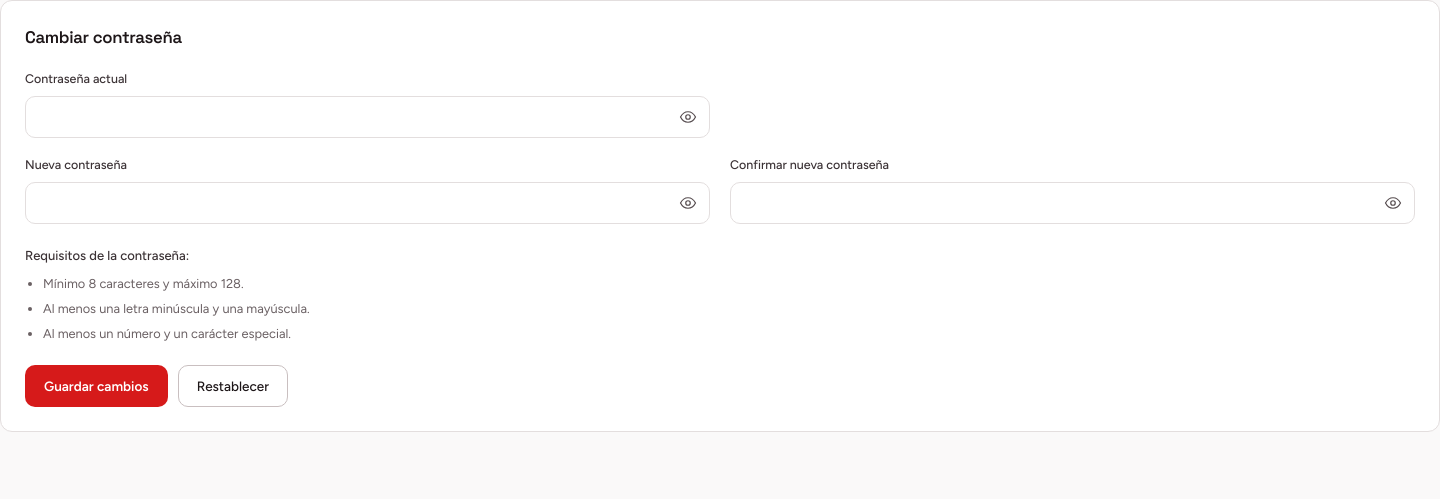
Test case: ChangePasswordForm › requires the current password before sending
The image size is (1440, 499).
Click the button "Guardar cambios".
click(96, 386)  # box [25, 365, 168, 407]
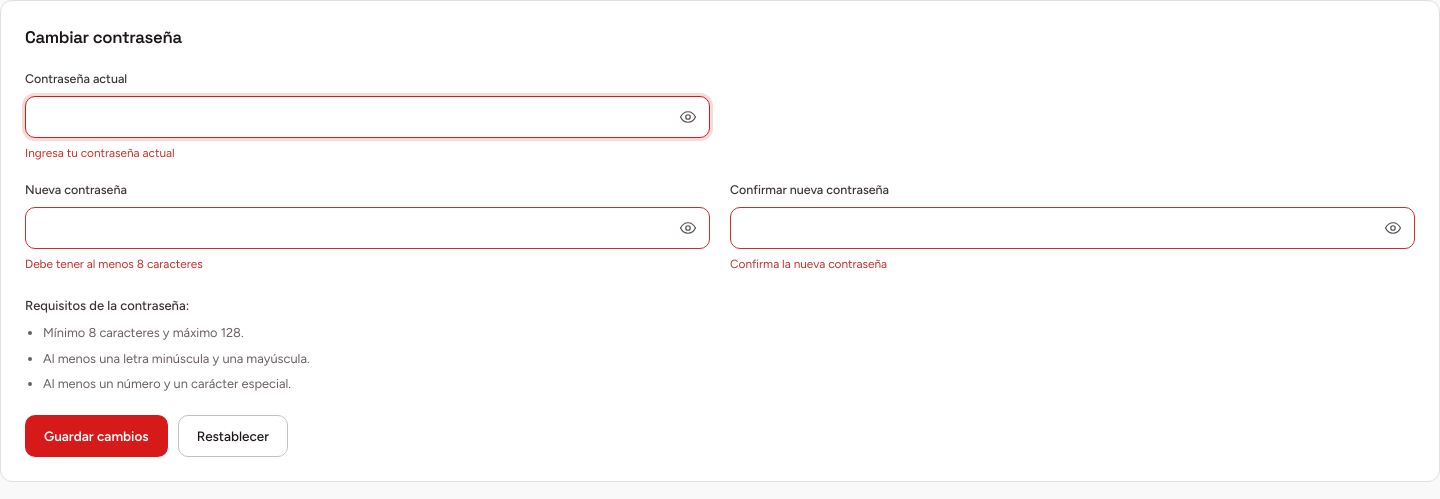
Check: the text "Ingresa tu contraseña actual" is shown, box [25, 146, 175, 160]
